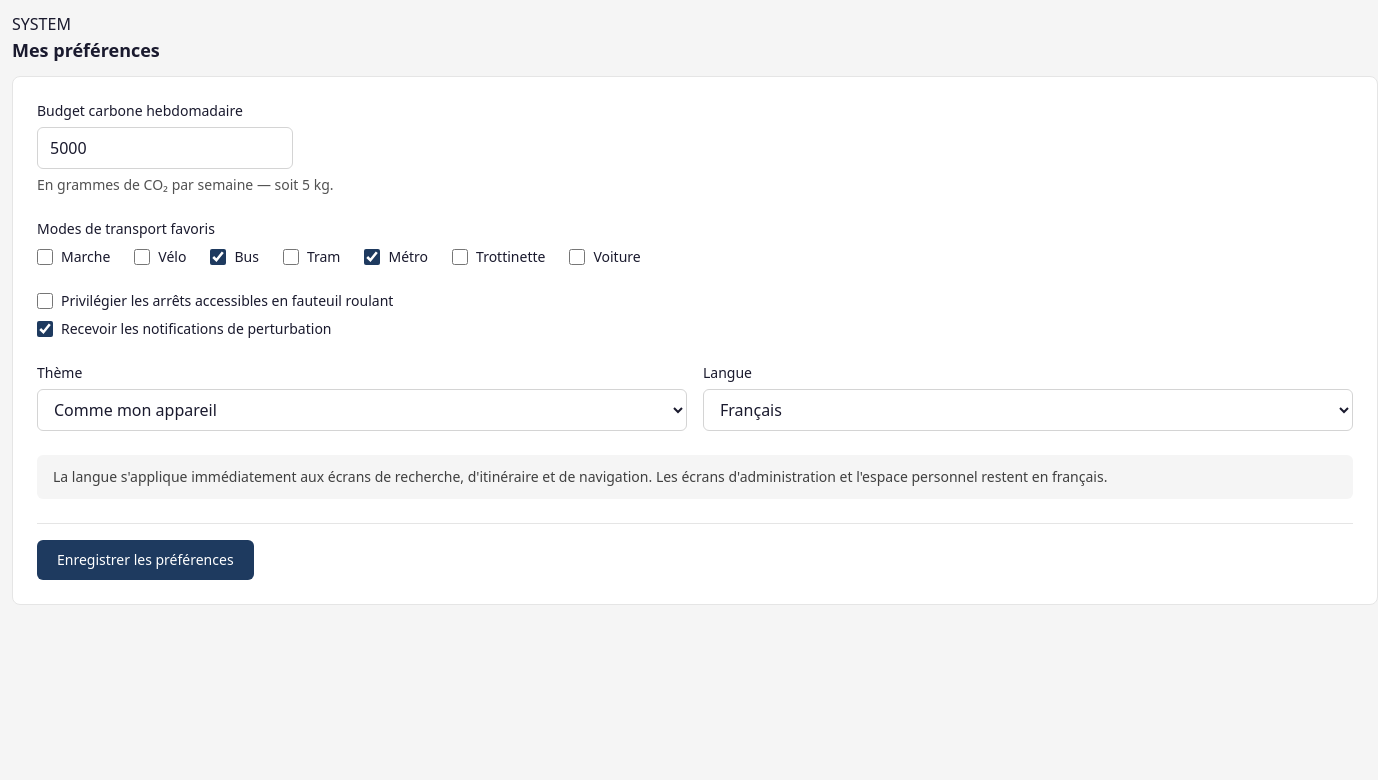
Test: Préférences › enregistrement › annonce l'envoi et DÉSACTIVE le bouton
Check: the number field labelled "Budget carbone hebdomadaire" holds "5000", box x1=37 y1=127 x2=293 y2=169
Click the button "Enregistrer les préférences".
click(145, 560)  # box x1=37 y1=540 x2=254 y2=580
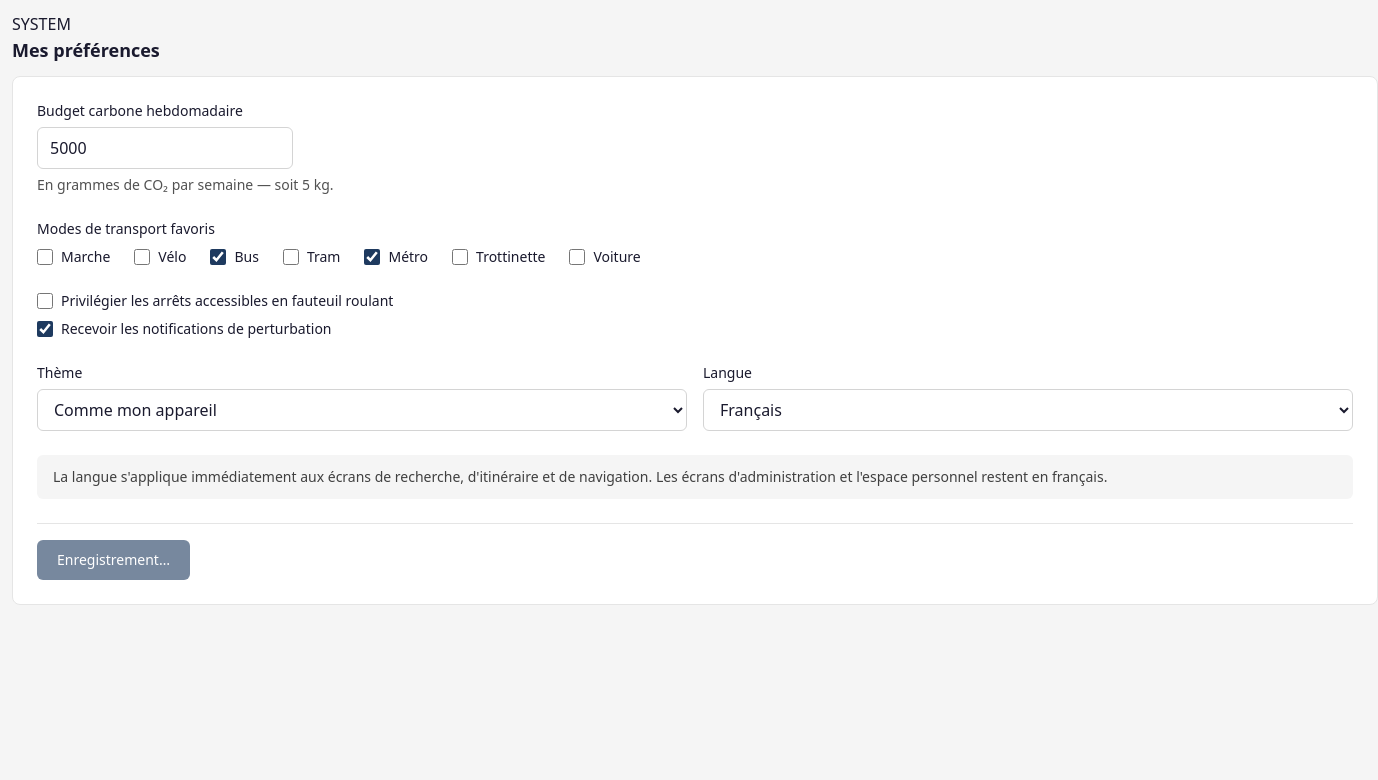
Check: the button "Enregistrement…" is disabled, box x1=37 y1=540 x2=190 y2=580
